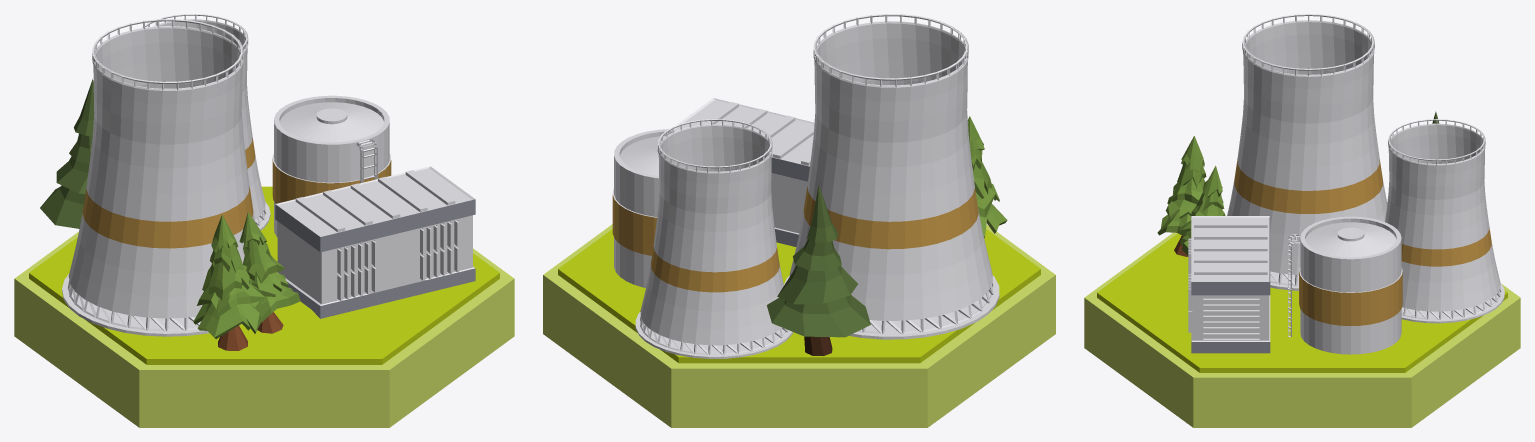
Rendered from nuclearPS_compress.glb.
3 views of the same model, side by side, from view 1: azimuth 30°, elevation 25°; view 2: azimuth 150°, elevation 25°; view 3: azimuth 270°, elevation 25° (orthographic). The views are drawn at different scales.
Visible parts, largest first — view 1: Cylinder.004, Cylinder.008, Cube.017, Cylinder.012, Tree.011, Tree.013, Tree.007, Cylinder.010, Cylinder.011, Cylinder.009, Cylinder.006, Cylinder.015 (+1 smaller); view 2: Cylinder.004, Cylinder.008, Cylinder.011, Tree.013, Cube.017, Cylinder.012, Cylinder.010, Cylinder.009, Tree.011, Cylinder.014, Cylinder.015, Cylinder.006 (+1 smaller); view 3: Cylinder.004, Cylinder.008, Cylinder.011, Cylinder.012, Cube.017, Tree.011, Cylinder.010, Tree.007, Cylinder.015, Cylinder.014, Cylinder.007, Cylinder.013.
Boxes of the visible parts, box(x1,y1,x2,y2) form: Cylinder.004: box(14, 186, 514, 427); Cylinder.008: box(68, 28, 255, 318); Cube.017: box(275, 166, 475, 318); Cylinder.012: box(272, 95, 391, 237); Tree.011: box(193, 214, 264, 350); Tree.013: box(40, 79, 94, 228); Tree.007: box(239, 212, 300, 333); Cylinder.010: box(92, 19, 243, 90); Cylinder.011: box(159, 20, 265, 219); Cylinder.009: box(62, 274, 241, 336); Cylinder.006: box(67, 280, 200, 331); Cylinder.015: box(142, 14, 248, 52); Cylinder.004: box(543, 224, 1055, 427); Cylinder.008: box(789, 23, 992, 320); Cylinder.011: box(640, 126, 783, 345); Tree.013: box(767, 185, 870, 355); Cube.017: box(674, 98, 814, 246); Cylinder.012: box(612, 129, 679, 287); Cylinder.010: box(813, 14, 968, 87); Cylinder.009: box(784, 275, 999, 339); Tree.011: box(967, 116, 1007, 237); Cylinder.014: box(635, 312, 793, 358); Cylinder.015: box(658, 119, 772, 173); Cylinder.006: box(858, 282, 993, 334); Cylinder.004: box(1084, 232, 1520, 427); Cylinder.008: box(1227, 22, 1387, 274); Cylinder.011: box(1385, 125, 1500, 311); Cylinder.012: box(1299, 216, 1402, 354); Cube.017: box(1188, 216, 1270, 353); Tree.011: box(1157, 136, 1206, 256); Cylinder.010: box(1242, 14, 1374, 76); Tree.007: box(1179, 165, 1225, 256); Cylinder.015: box(1388, 119, 1485, 165); Cylinder.014: box(1401, 283, 1504, 323); Cylinder.007: box(1401, 287, 1501, 319); Cylinder.013: box(1288, 234, 1299, 337).
Size of the model in its own units: 3.04 by 2.37 by 3.51.
